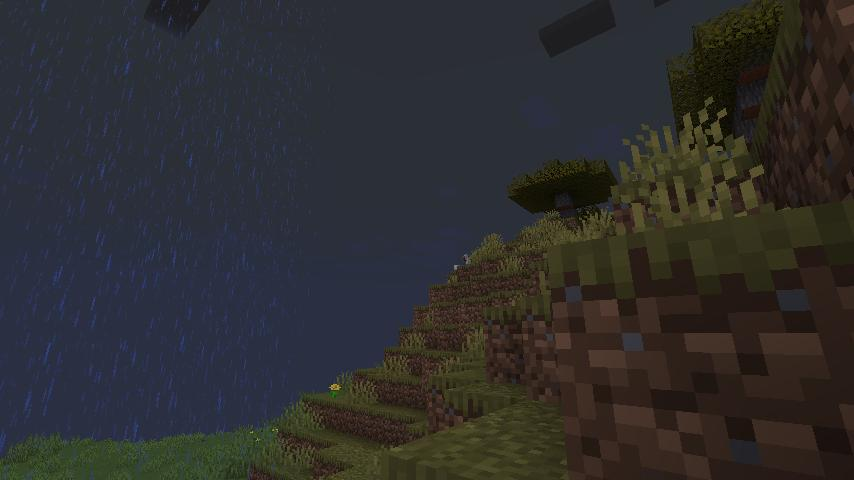chicken: (461, 253, 473, 265)
